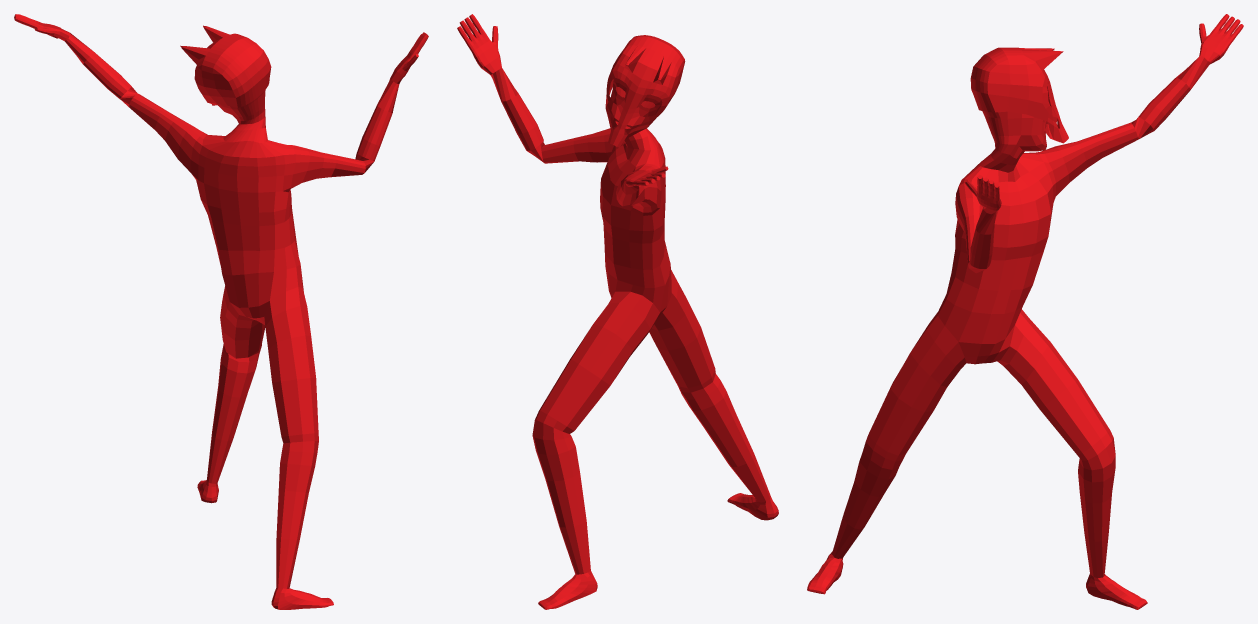
The model's file is activaAlarma_000169.obj.
3 views of the same model, side by side, from view 1: azimuth 30°, elevation 25°; view 2: azimuth 150°, elevation 25°; view 3: azimuth 270°, elevation 25° (orthographic). The views are drawn at different scales.
Parts seen in each view (by area): view 1: Plane.002_Plane.001; view 2: Plane.002_Plane.001; view 3: Plane.002_Plane.001.
Part boxes in pixels (box(x1,y1,x2,y2)): Plane.002_Plane.001: box(14, 14, 428, 609); Plane.002_Plane.001: box(457, 14, 778, 609); Plane.002_Plane.001: box(807, 14, 1243, 609).
Bounding box in the file's own units: 4.2 × 6.67 × 4.87.
